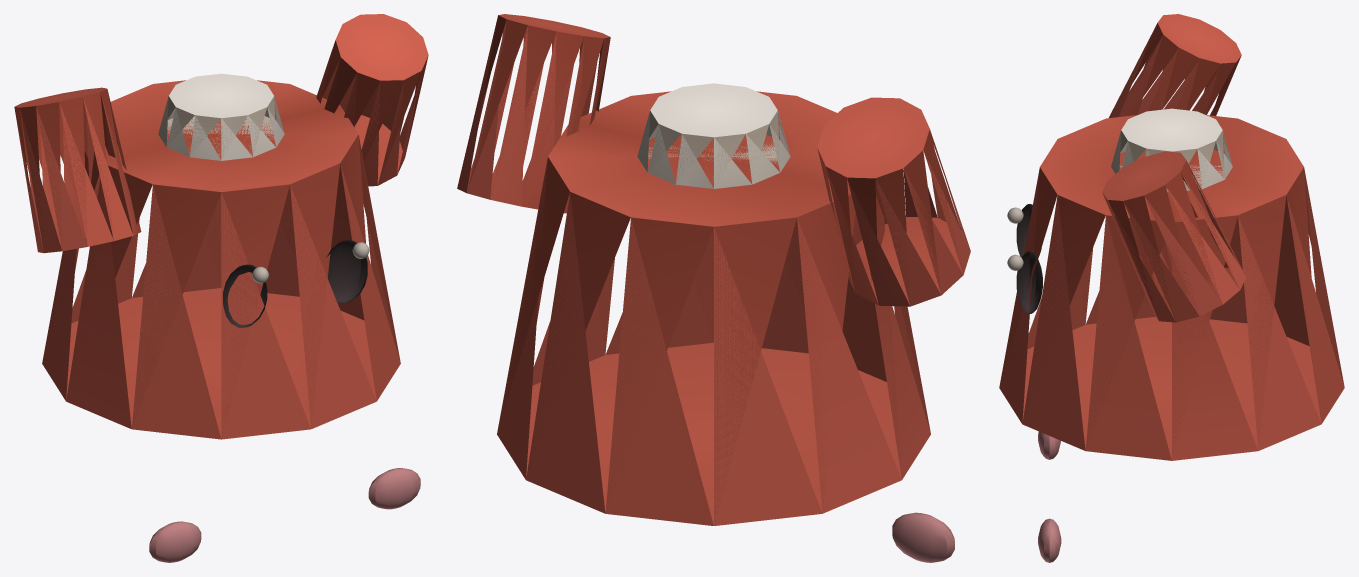
3 renders of one model, left to right at view 1: azimuth 30°, elevation 25°; view 2: azimuth 150°, elevation 25°; view 3: azimuth 270°, elevation 25°, orthographic. The views are drawn at different scales.
Parts seen in each view (by area): view 1: pet_pd83ca632; view 2: pet_pd83ca632; view 3: pet_pd83ca632.
Boxes of the visible parts, <box> form: pet_pd83ca632: <box>14,14,428,562</box>; pet_pd83ca632: <box>457,14,970,562</box>; pet_pd83ca632: <box>999,14,1344,562</box>.
Size of the model in its own units: 0.42 by 0.4522 by 0.34.
